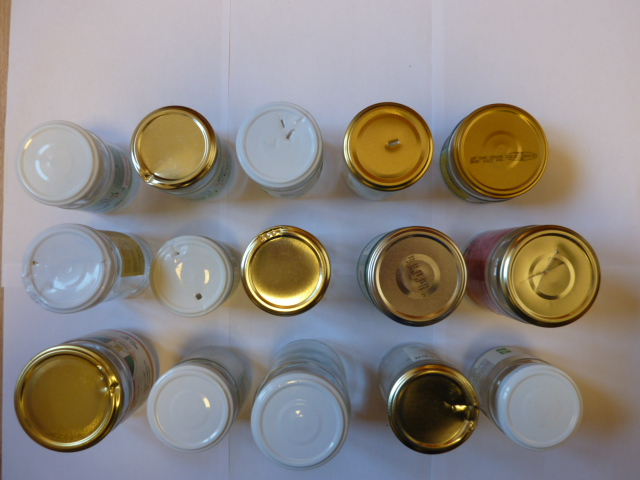damaged: (14, 344, 122, 452), (500, 224, 600, 324), (387, 365, 480, 455), (240, 226, 330, 315), (343, 102, 432, 190), (236, 102, 323, 190), (129, 106, 217, 190), (150, 236, 232, 317)
intact: (250, 372, 349, 469), (450, 102, 549, 198), (147, 364, 233, 452), (497, 364, 584, 450)
